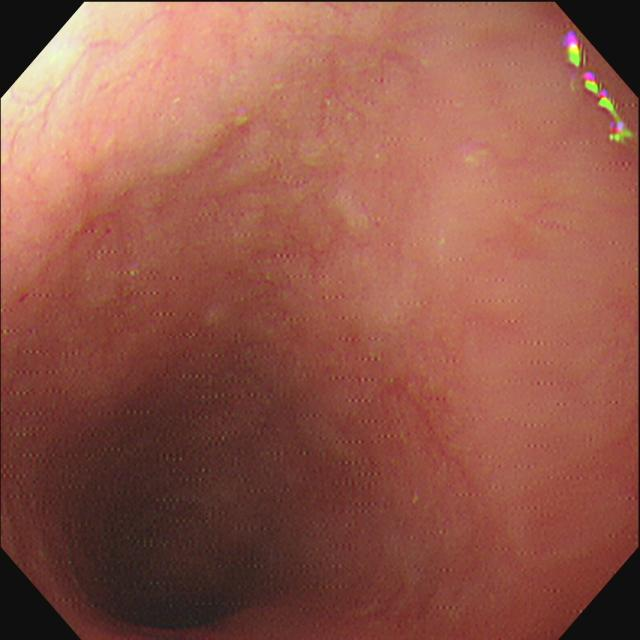E: (78, 497, 271, 629)
U: (565, 31, 632, 146)
